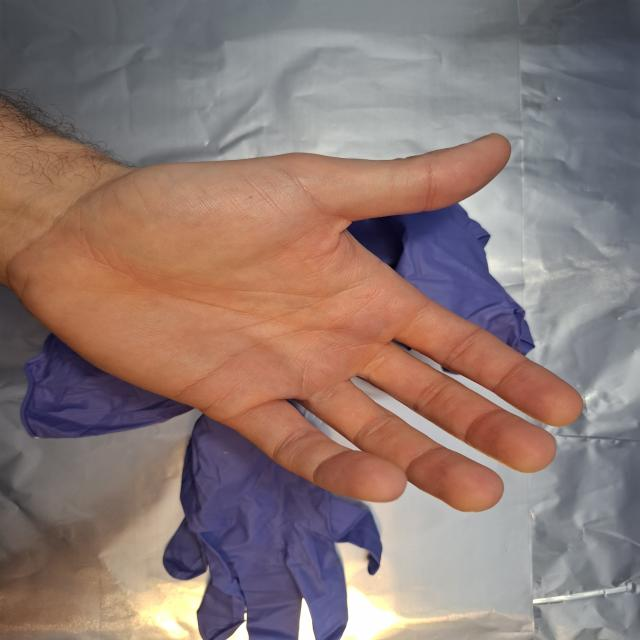glove_off: (1, 130, 586, 514)
